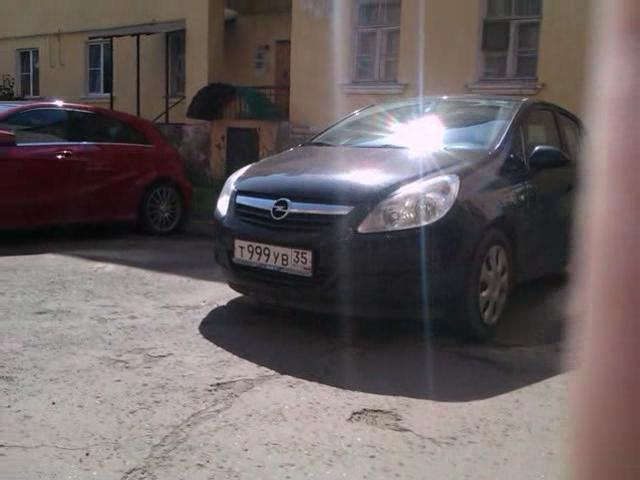license-plateSW: (233, 240, 314, 273)
